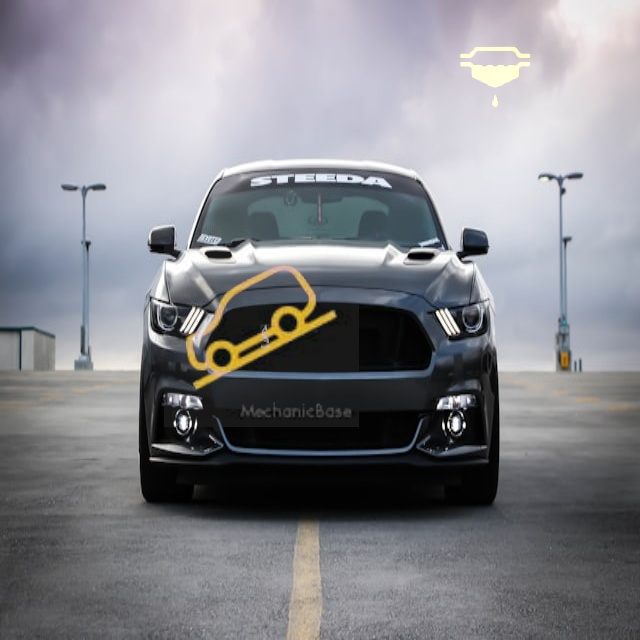symbol: (164, 232, 359, 427), (427, 9, 565, 147)
